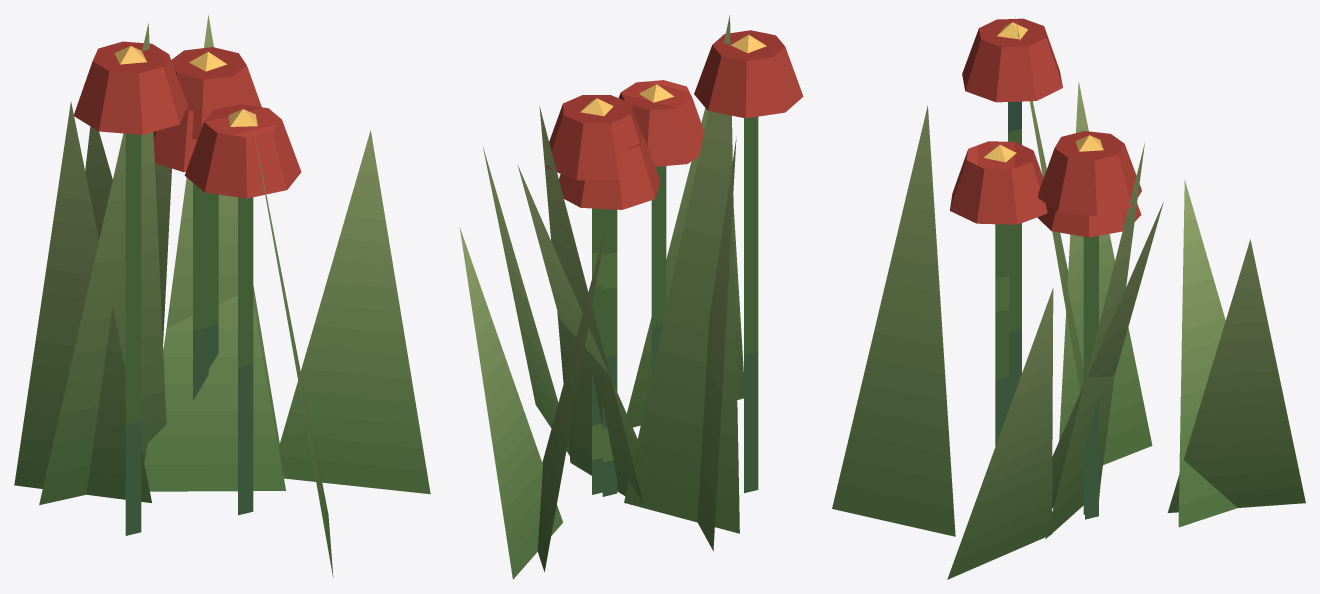
The model's file is grass_flower_1.glb.
The picture shows the model from 3 angles, left to right: view 1: azimuth 30°, elevation 25°; view 2: azimuth 150°, elevation 25°; view 3: azimuth 270°, elevation 25°; orthographic projection. The views are drawn at different scales.
Parts seen in each view (by area): view 1: grass_flower_2; view 2: grass_flower_2; view 3: grass_flower_2.
Part boxes in pixels (x1,y1,x2,y2): grass_flower_2: (14,14,430,577); grass_flower_2: (459,15,803,579); grass_flower_2: (832,16,1305,579).
Bounding box in the file's own units: 0.2767 × 0.4276 × 0.4014.
Materials: 4 (4 with a texture image).
